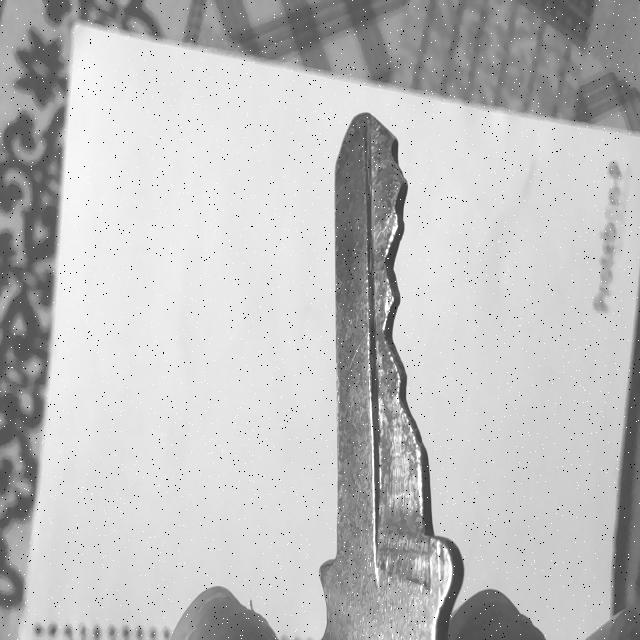key: (320, 114, 464, 640)
